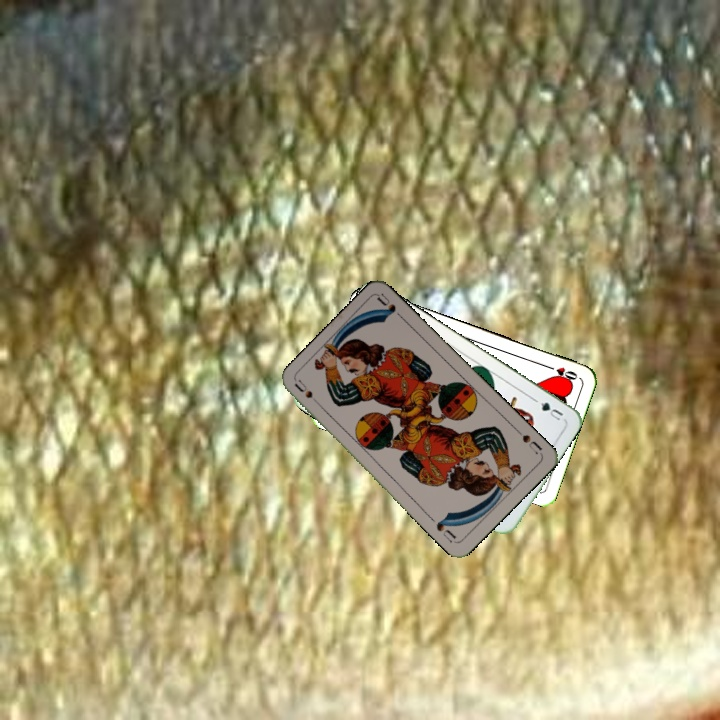GU: (531, 395, 566, 423)
HO: (542, 361, 580, 384)
SU: (291, 376, 325, 411), (511, 425, 545, 455)
